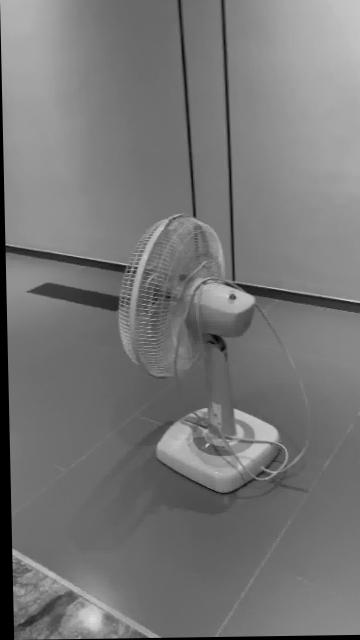Fan: (116, 216, 280, 495)
